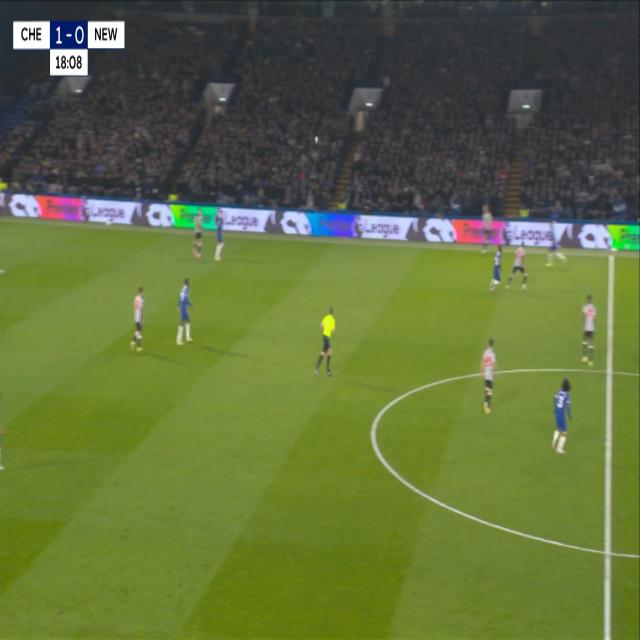Ball: (312, 132, 322, 148)
Chelsea: (547, 370, 576, 458), (173, 272, 197, 348)
New castle: (478, 332, 500, 418), (578, 288, 600, 372), (130, 282, 147, 352)
Refree: (312, 300, 338, 380)
